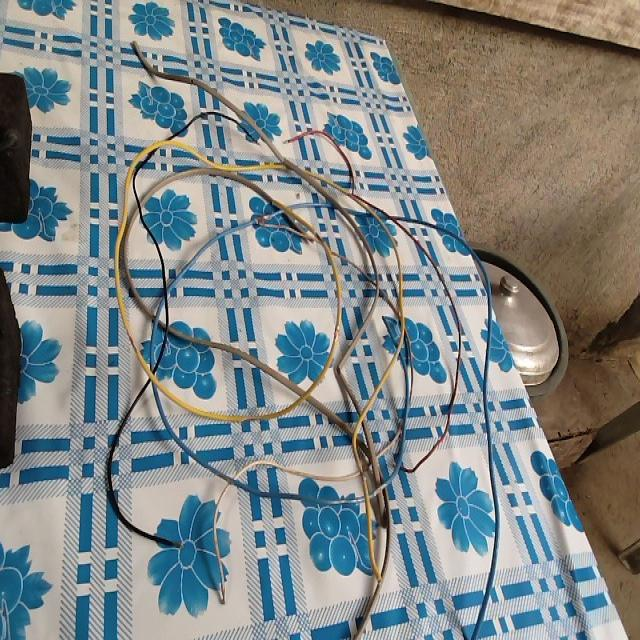-: (122, 325, 139, 351), (251, 207, 272, 225), (331, 321, 342, 344), (356, 465, 367, 483)
